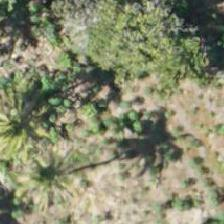Kelapa_Sawit: (8, 136, 99, 223), (0, 85, 60, 175)
